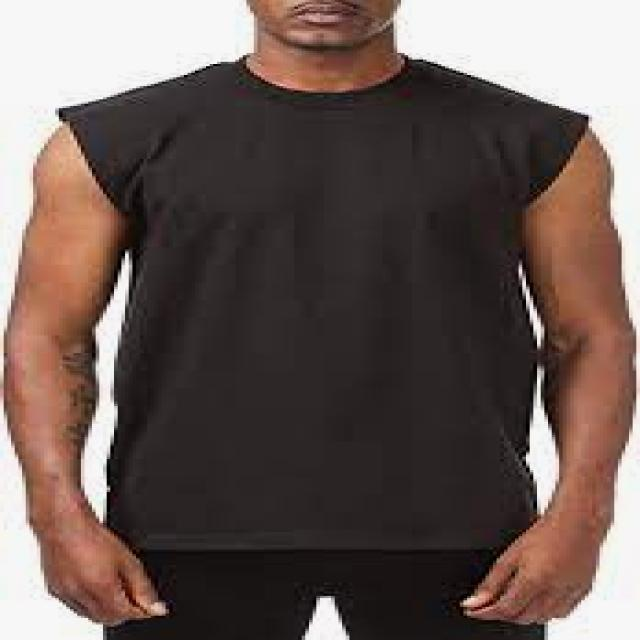no_vest: (56, 55, 594, 552)
